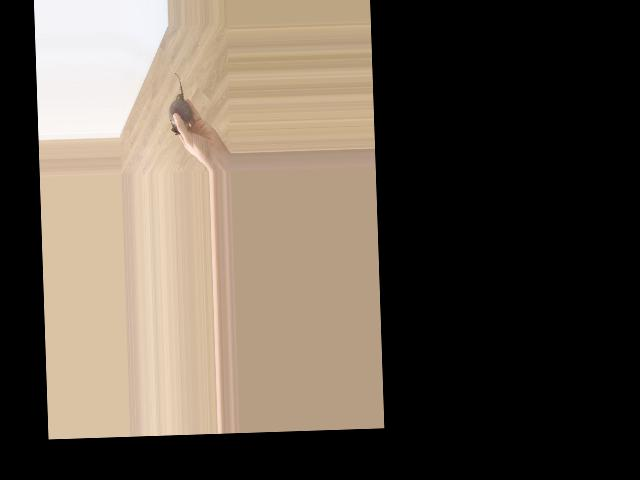beet: (167, 71, 192, 135)
